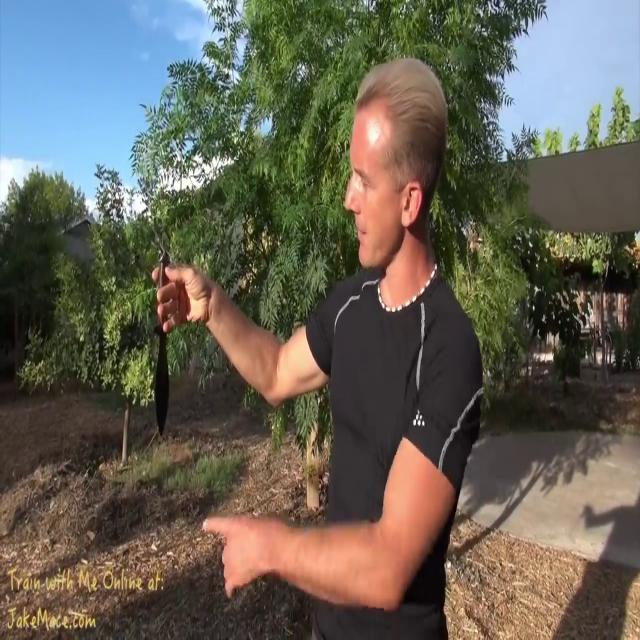knife: (138, 246, 182, 452)
